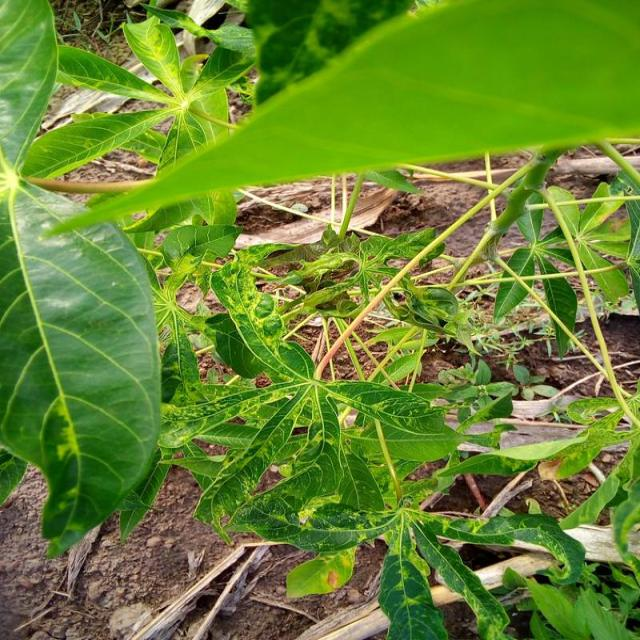cassava leaf: (38, 0, 640, 238), (0, 176, 162, 558)
